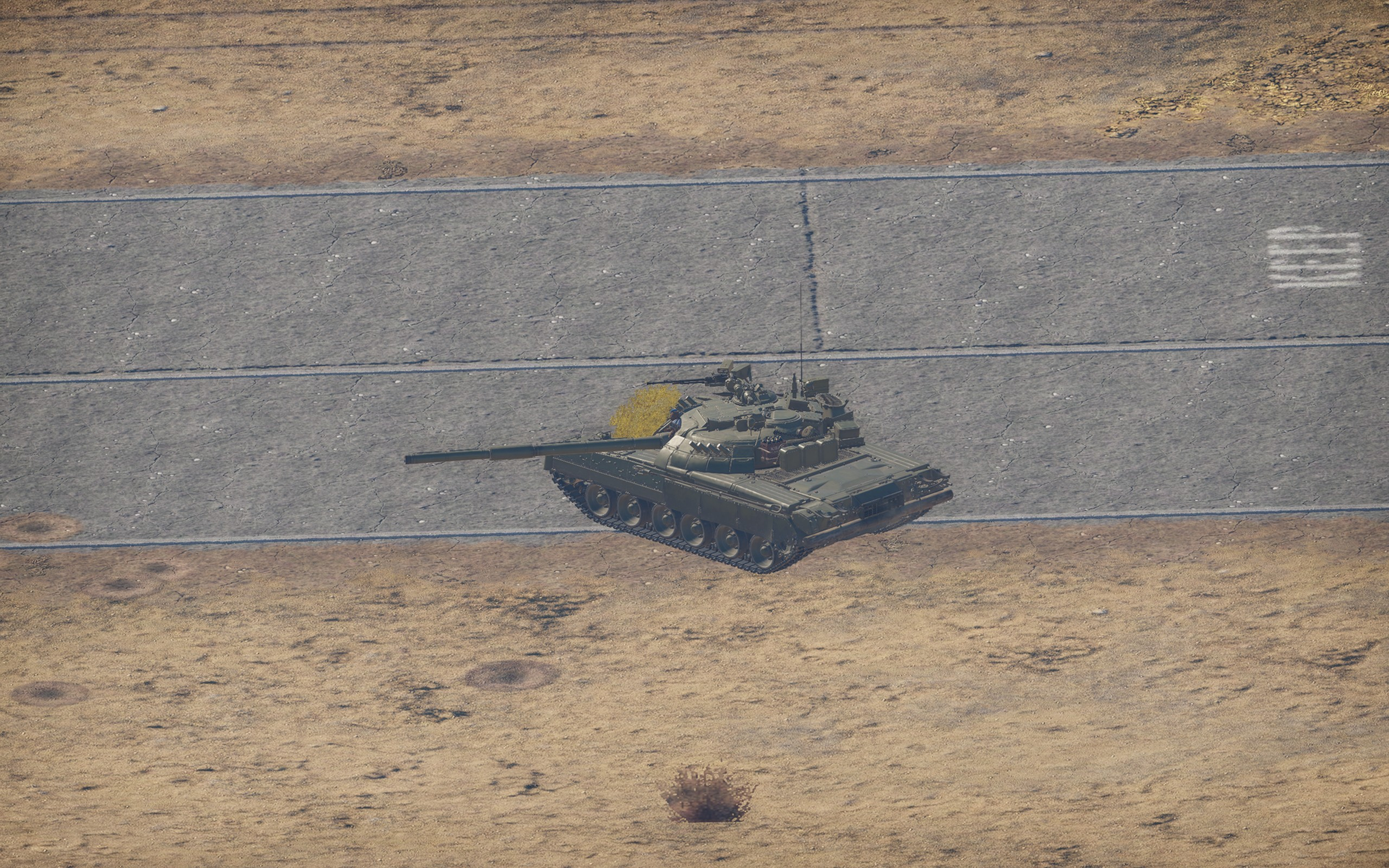t-80u: (400, 361, 953, 575)
